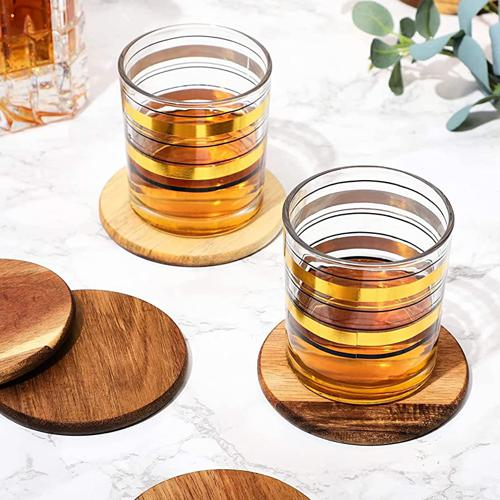vaso: (283, 166, 454, 403), (117, 26, 272, 235)
